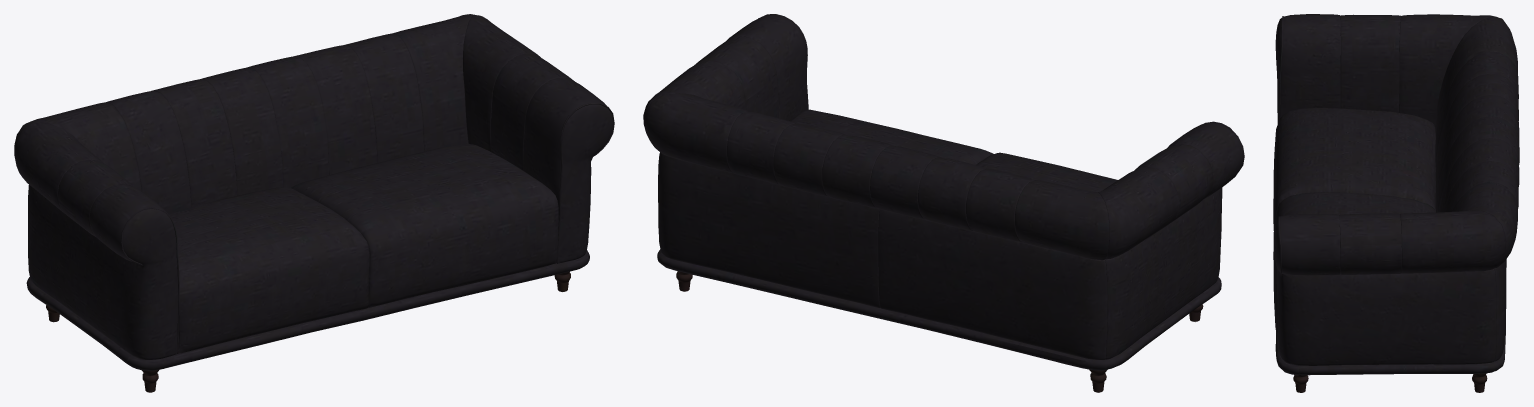
The model's file is cover-lejde-antracyt-brazowy.glb.
3 views of the same model, side by side, from view 1: azimuth 30°, elevation 25°; view 2: azimuth 150°, elevation 25°; view 3: azimuth 270°, elevation 25° (orthographic). The views are drawn at different scales.
Parts seen in each view (by area): view 1: Mesh_0; view 2: Mesh_0; view 3: Mesh_0.
Boxes of the visible parts, <box> form: Mesh_0: <box>14,14,614,392</box>; Mesh_0: <box>643,14,1244,392</box>; Mesh_0: <box>1273,14,1519,392</box>.
Size of the model in its own units: 1.94 by 0.7399 by 0.9.
2 materials, 2 textured.
